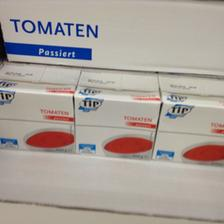Tomatensauce: (72, 68, 160, 160), (0, 63, 80, 153), (149, 74, 223, 166)
